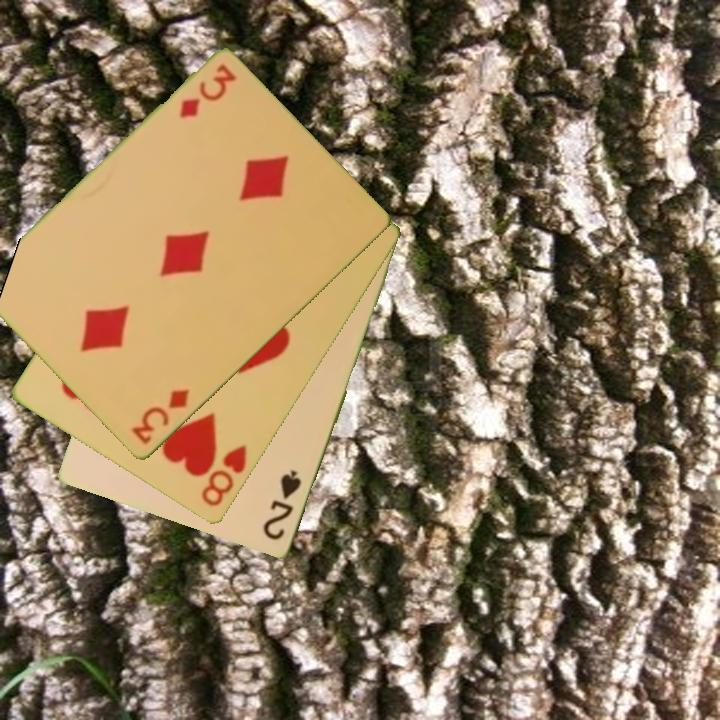2s: (260, 467, 305, 544)
3d: (128, 385, 193, 448), (175, 61, 240, 122)
8h: (197, 440, 250, 510)
